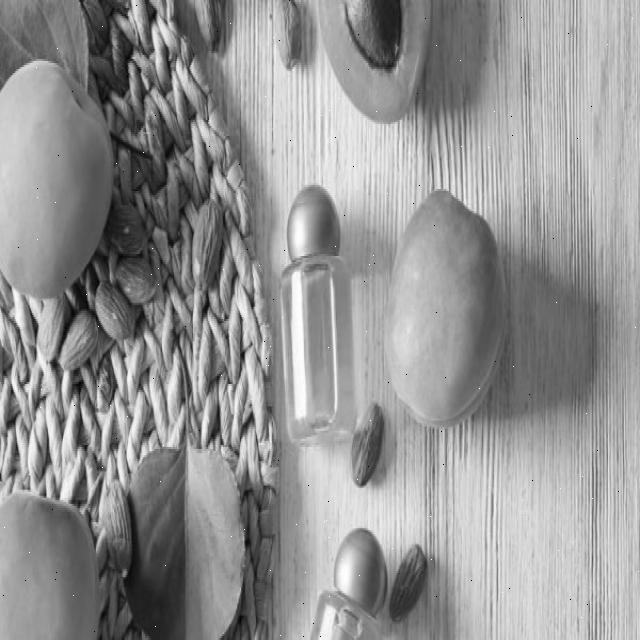kayisi: (382, 180, 528, 442), (3, 52, 113, 290), (0, 485, 98, 640)
yaprak: (108, 422, 257, 640)
